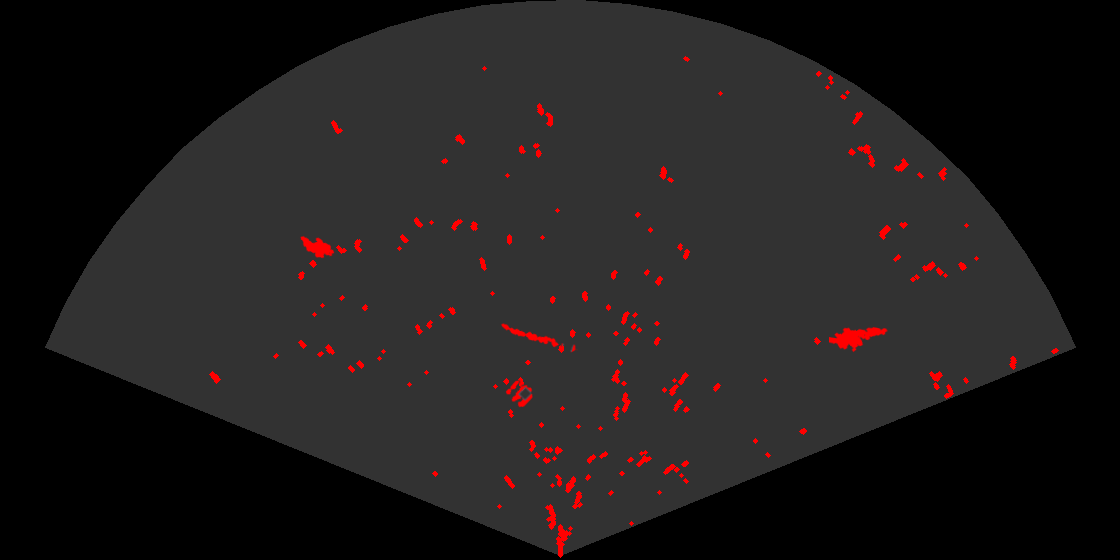AUV: (299, 234, 336, 260)
ball: (504, 379, 534, 409)
chain: (499, 322, 578, 354)
frogman: (829, 326, 888, 354)
